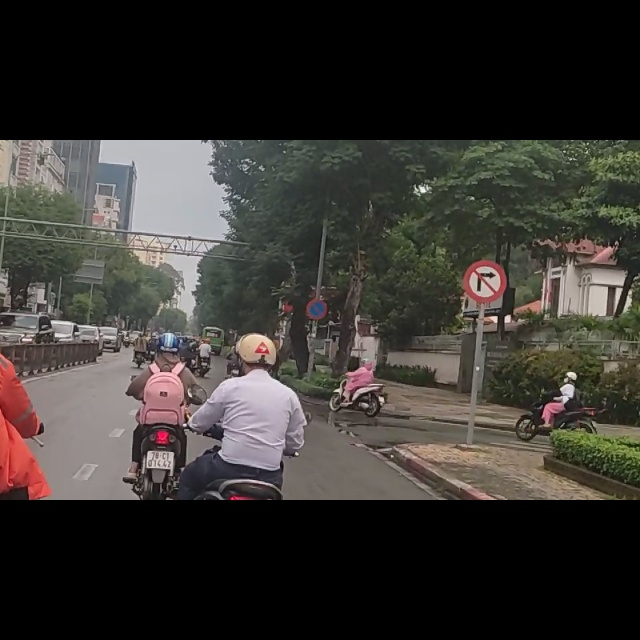bien_cam: (462, 213, 510, 288), (307, 281, 328, 320)
